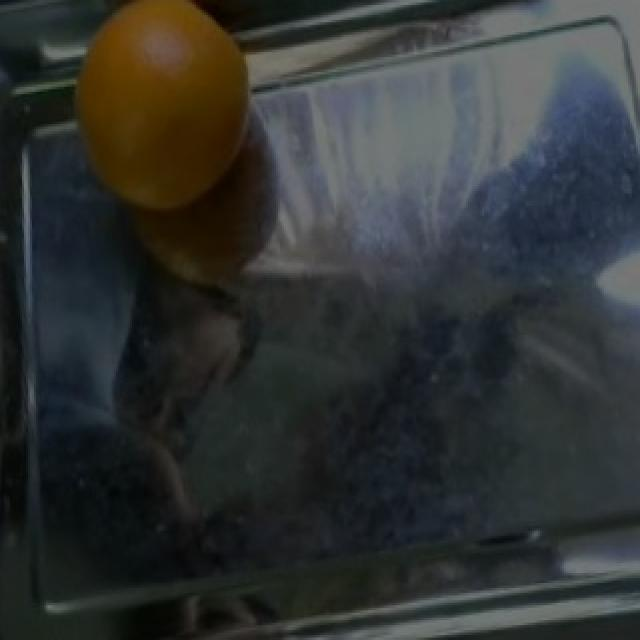Fruit: (58, 0, 270, 226)
